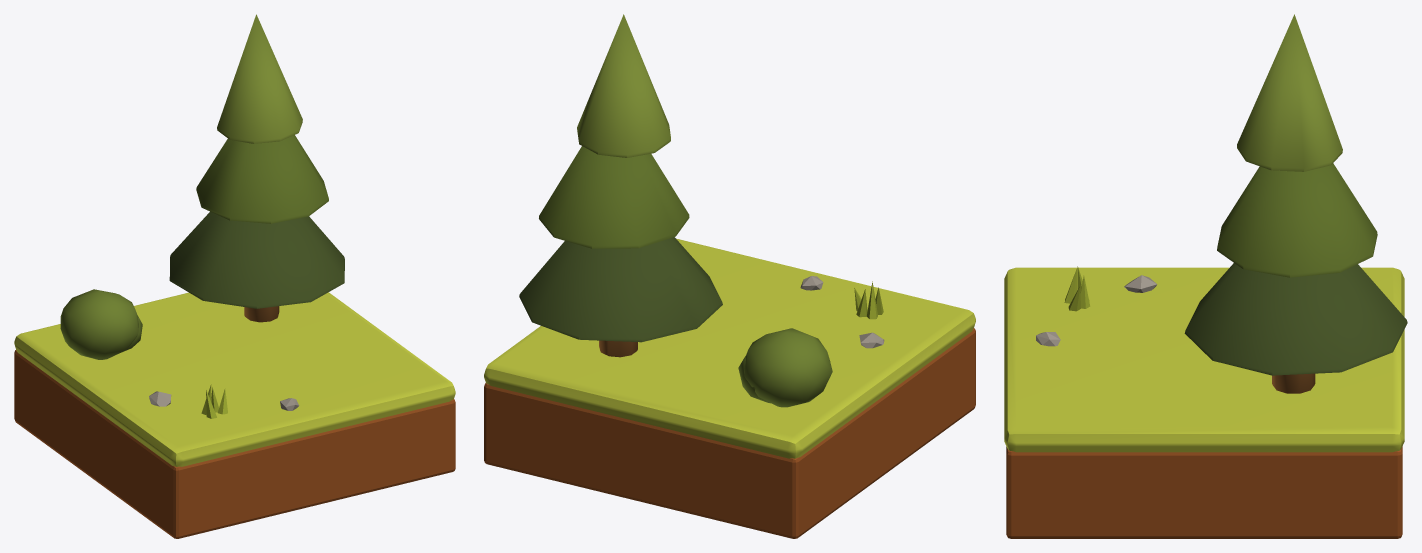
The model's file is tile_grove_mature.glb.
The picture shows the model from 3 angles, left to right: view 1: azimuth 30°, elevation 25°; view 2: azimuth 150°, elevation 25°; view 3: azimuth 270°, elevation 25°; orthographic projection. The views are drawn at different scales.
Visible parts, largest first — view 1: tile_grove_mature_cap, tile_grove_mature_body, gm_tier0, gm_tier1, gm_tier2, tile_grove_mature_b_lobe2; view 2: tile_grove_mature_cap, tile_grove_mature_body, gm_tier0, gm_tier1, gm_tier2, tile_grove_mature_b_lobe2; view 3: tile_grove_mature_cap, tile_grove_mature_body, gm_tier0, gm_tier1, gm_tier2, gm_trunk.
Boxes of the visible parts, x1,y1,x2,y2 form: tile_grove_mature_cap: [14, 292, 455, 466]; tile_grove_mature_body: [14, 350, 455, 538]; gm_tier0: [169, 211, 344, 308]; gm_tier1: [196, 135, 328, 223]; gm_tier2: [217, 14, 302, 143]; tile_grove_mature_b_lobe2: [60, 289, 138, 359]; tile_grove_mature_cap: [484, 238, 975, 458]; tile_grove_mature_body: [484, 328, 975, 538]; gm_tier0: [519, 237, 722, 342]; gm_tier1: [539, 146, 689, 248]; gm_tier2: [577, 14, 670, 157]; tile_grove_mature_b_lobe2: [744, 328, 832, 407]; tile_grove_mature_cap: [1004, 267, 1404, 452]; tile_grove_mature_body: [1006, 446, 1402, 538]; gm_tier0: [1184, 263, 1407, 375]; gm_tier1: [1217, 163, 1377, 277]; gm_tier2: [1237, 14, 1342, 171]; gm_trunk: [1272, 373, 1315, 393].
Size of the model in its own units: 2.02 by 2.66 by 2.04.
